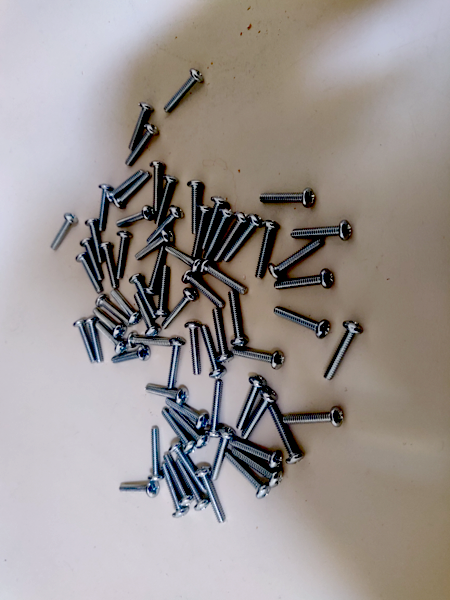longscrew: (272, 237, 323, 281), (324, 324, 361, 382), (174, 458, 210, 512), (270, 404, 300, 468), (168, 440, 204, 493), (232, 449, 281, 487), (195, 464, 226, 524), (223, 456, 268, 497), (241, 390, 277, 440), (162, 68, 203, 111), (166, 404, 206, 447), (290, 218, 358, 243), (256, 187, 324, 212), (233, 377, 264, 431), (215, 212, 248, 262), (227, 211, 260, 260), (271, 310, 332, 336), (124, 123, 158, 169), (275, 268, 339, 292), (253, 220, 278, 281), (165, 395, 211, 428), (160, 290, 198, 329), (203, 262, 249, 294), (163, 454, 191, 506), (161, 407, 193, 452), (146, 206, 183, 243), (179, 274, 224, 304), (151, 175, 178, 225), (228, 287, 251, 345), (232, 436, 283, 462), (105, 168, 145, 201), (209, 305, 232, 362), (202, 197, 227, 249), (211, 208, 235, 261), (114, 173, 149, 209), (202, 321, 224, 378), (134, 231, 174, 262), (163, 467, 187, 518), (213, 427, 234, 482), (133, 275, 158, 321), (232, 347, 286, 368), (144, 381, 189, 406), (88, 312, 108, 366), (74, 317, 96, 366), (190, 204, 210, 257), (187, 181, 207, 234), (165, 334, 184, 389), (127, 103, 150, 148), (285, 410, 349, 426), (115, 203, 154, 229), (208, 380, 225, 439), (165, 244, 202, 271), (95, 295, 127, 326), (49, 214, 76, 250), (96, 321, 126, 353), (77, 255, 101, 295), (147, 247, 167, 293), (111, 292, 138, 326), (102, 239, 119, 292), (155, 265, 173, 315), (94, 184, 113, 229), (133, 293, 153, 334), (82, 241, 102, 281), (186, 317, 199, 378), (86, 219, 104, 263), (117, 231, 133, 279), (130, 332, 171, 350), (93, 310, 121, 336), (120, 479, 163, 495), (150, 425, 162, 481), (111, 347, 153, 362), (150, 160, 162, 210)
